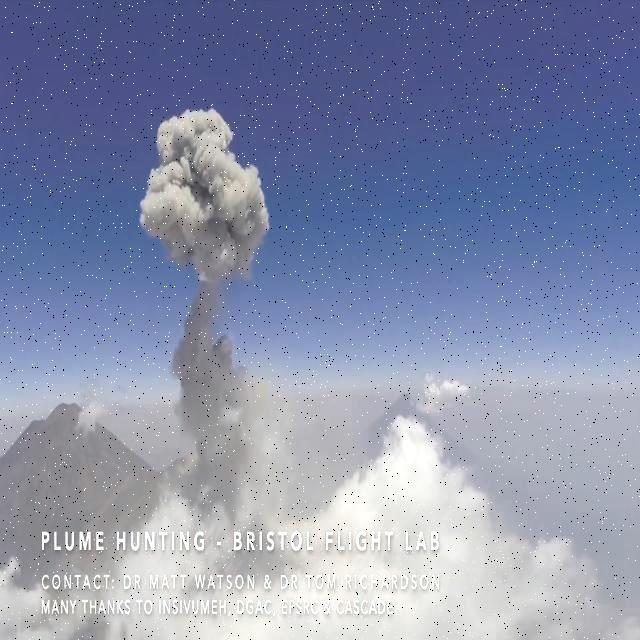Plume: (140, 104, 268, 278), (169, 266, 264, 482)
